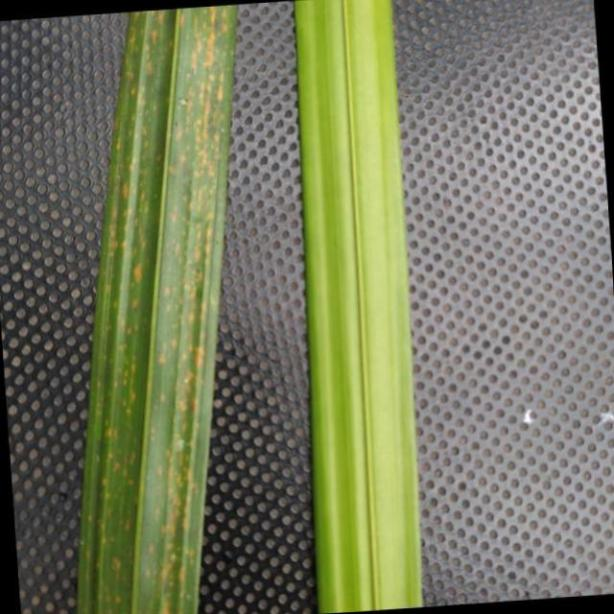nitrogen: (69, 5, 238, 614), (296, 0, 420, 614)
